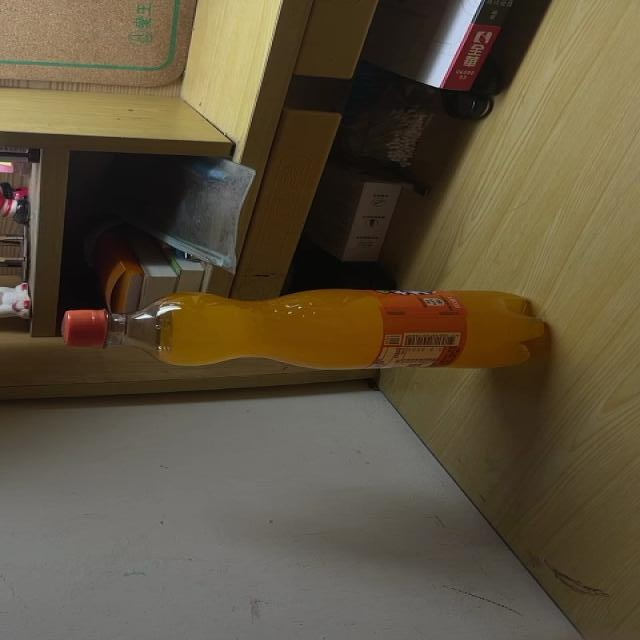Fanta: (63, 288, 547, 370)
